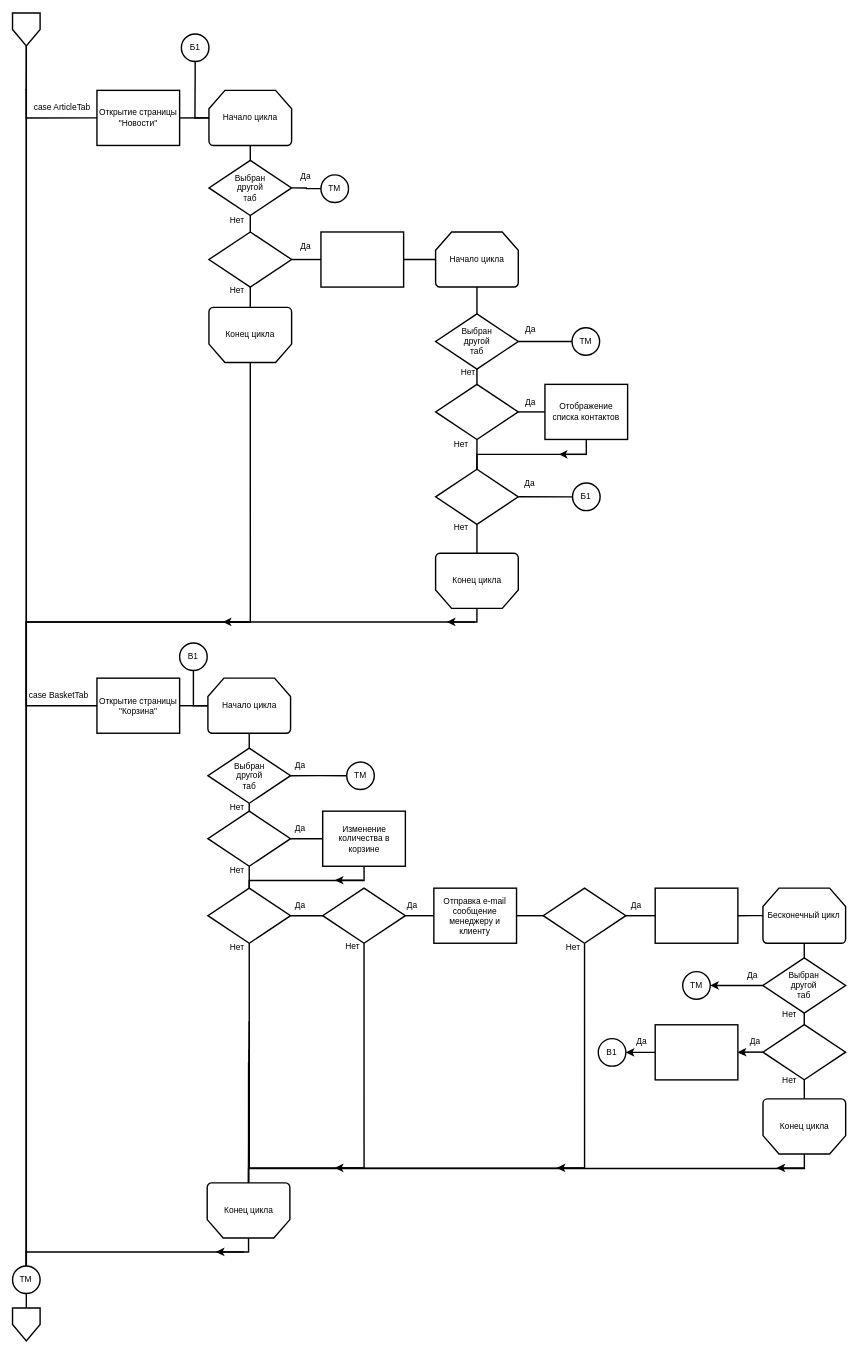
Image size: 859x1354. Some labels were removed from this diagram. Here are the shapes that lost their labels. From the top down, the centre of each, then its label:
point (25, 29): Л2
point (250, 259): Выбрана определенная новость
point (362, 259): Открытие определенной новости
point (477, 411): Это страница контакты
point (477, 496): Вернуться назад
point (249, 838): Кол-во в корзине изменено
point (249, 915): Кол-во в корзине нуль
point (364, 915): Оформлена заявка
point (584, 915): Запрощена счёт-фактура
point (696, 915): Отображение страницы отправки документа "счёт-фактура"
point (696, 1052): Отправка e-mail с документом "Счёт-фактура"
point (804, 1052): Запрос оформлен
point (25, 1324): Л3
